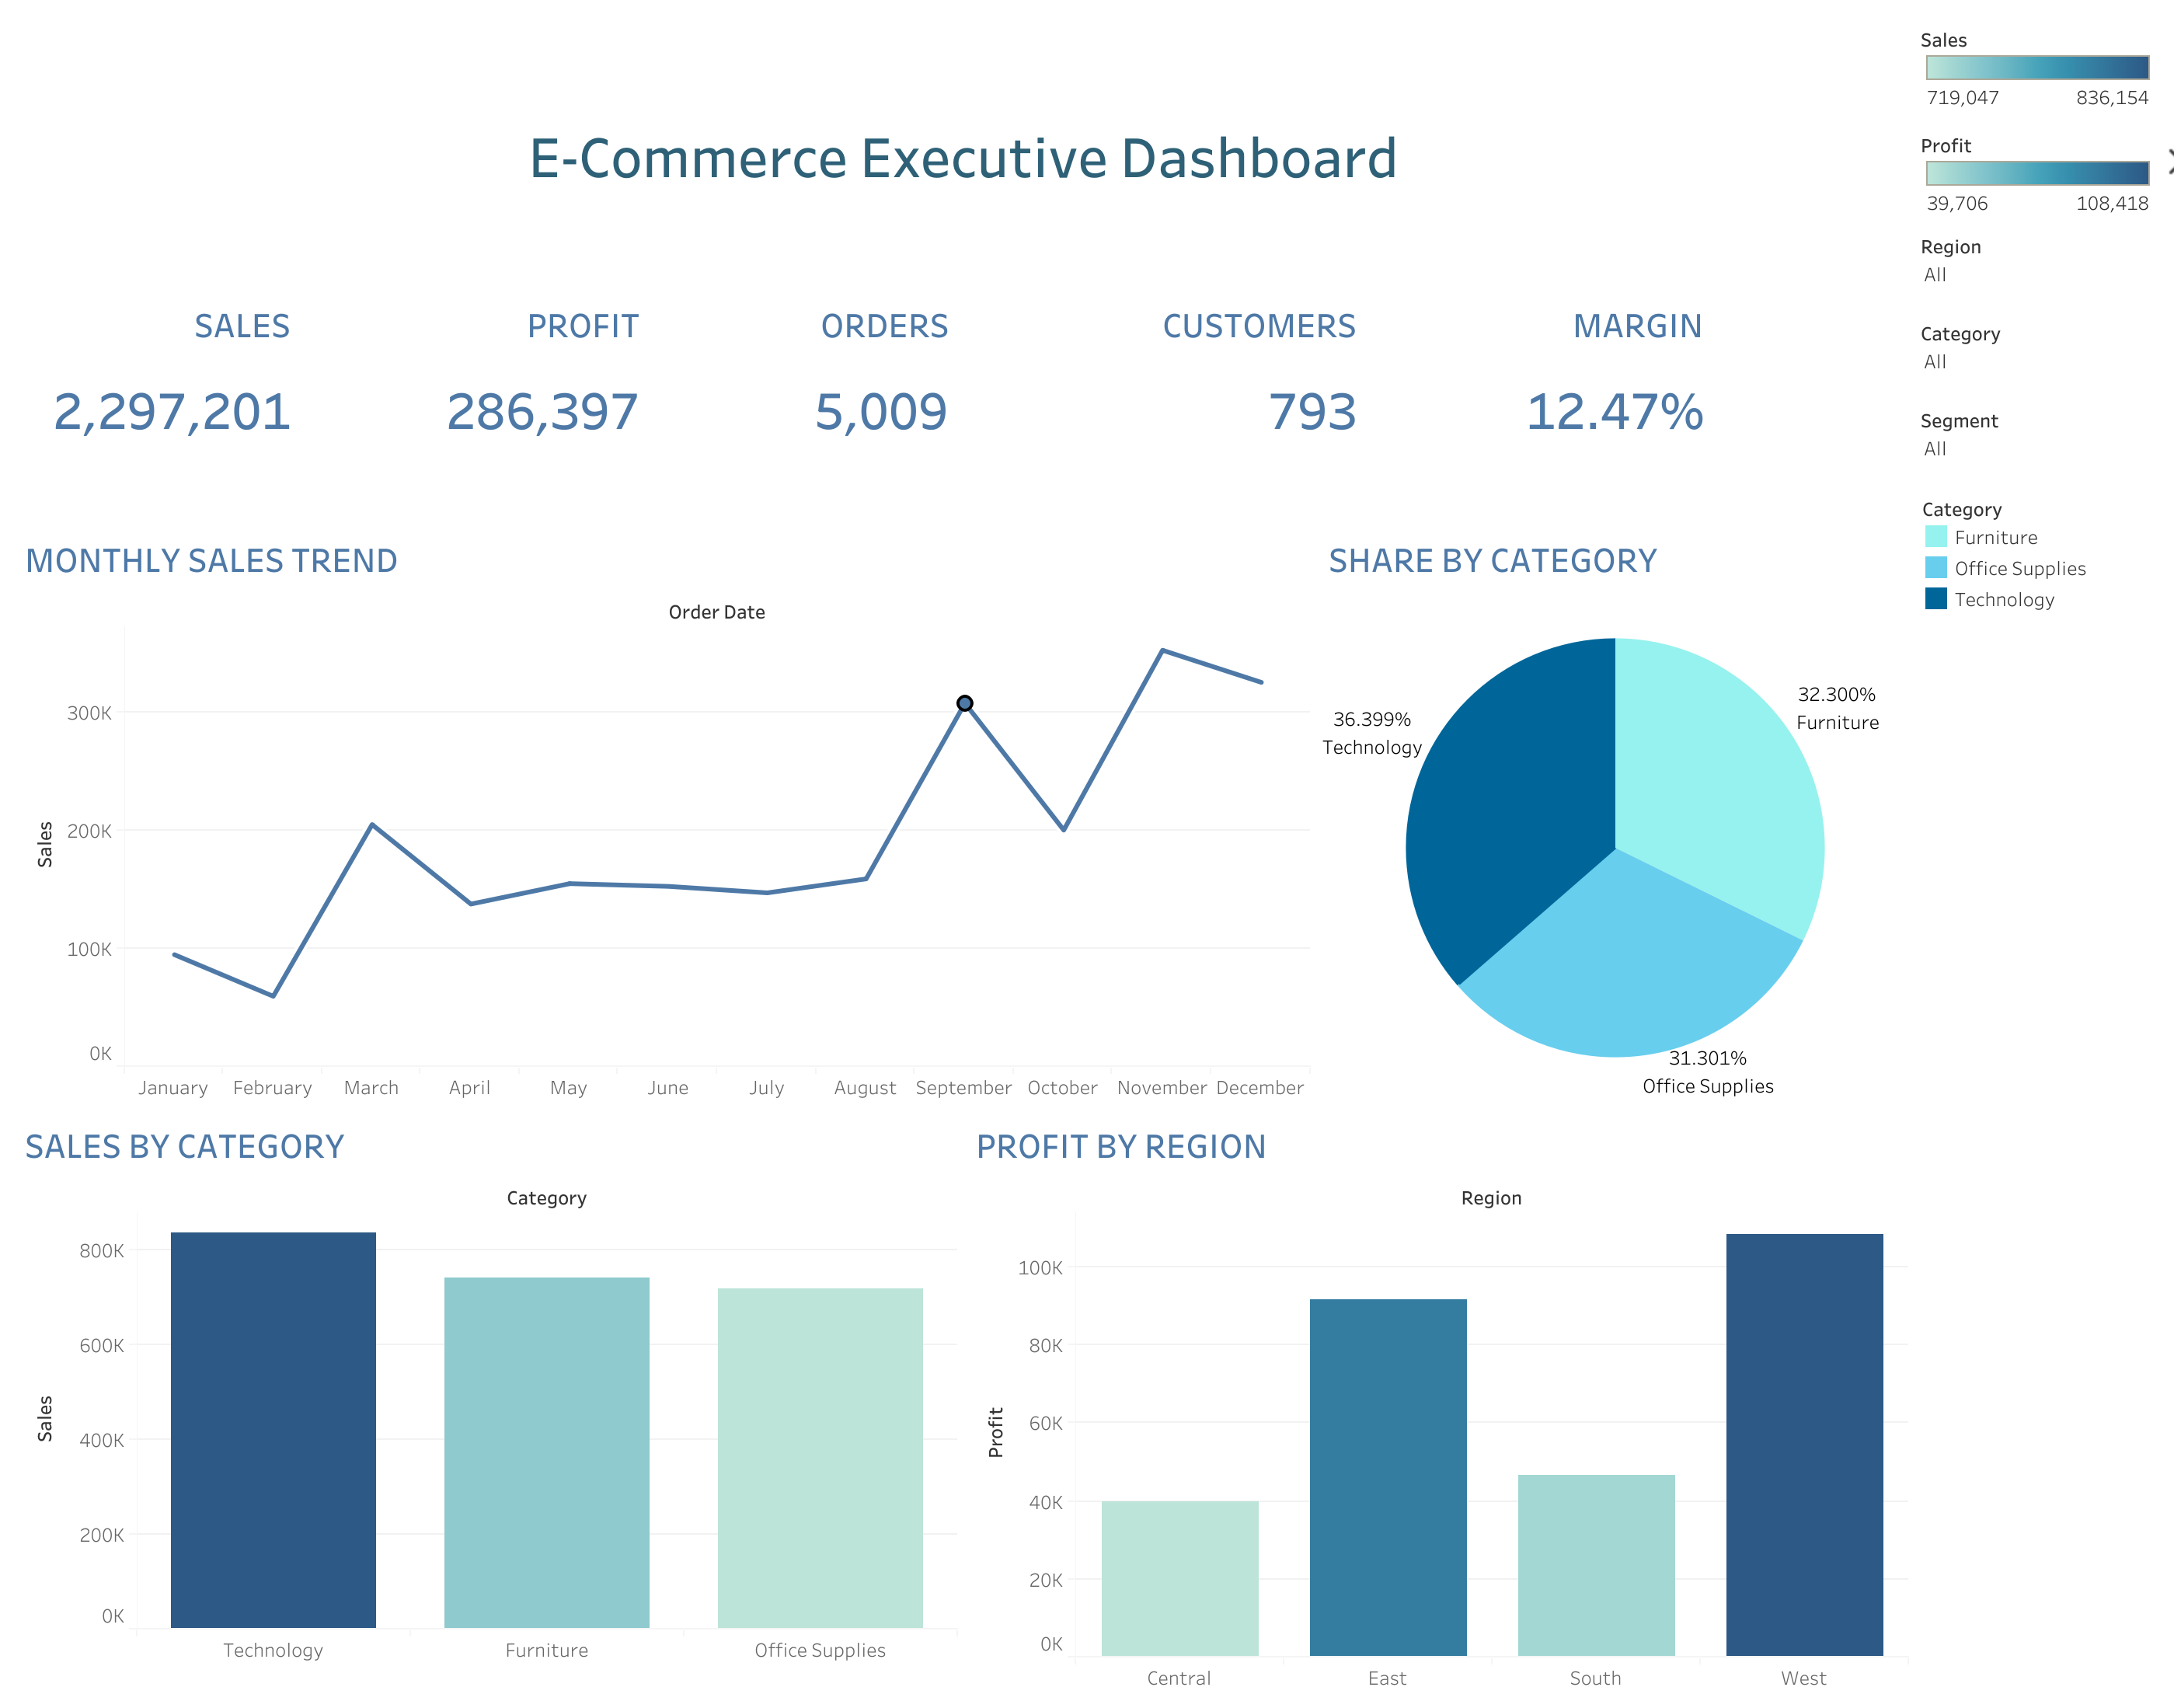

Layout of this report page (visuals, bound fields, positions):
{"tool":"tableau","page":{"name":"EXECUTIVE DASHBOARD","canvas":[1400,1100],"ordinal":0},"visuals":[{"type":"text","box":[8,8,1224,144]},{"type":"legend","title":"CATEGORY SALES","param":"[federated.0c3jzsr0my6qlz13rsrev0upd4m0].[sum:Sales:qk]","box":[1232,8,160,65]},{"type":"legend","title":"REGIONAL PROFIT","param":"[federated.0c3jzsr0my6qlz13rsrev0upd4m0].[sum:Profit:qk]","box":[1232,73,160,65]},{"type":"filter","title":"MONTHLY SALES","param":"[federated.0c3jzsr0my6qlz13rsrev0upd4m0].[none:Region:nk]","box":[1232,138,160,52]},{"type":"worksheet","title":"KPI SALES","mark":"Automatic","box":[8,152,264,183]},{"type":"worksheet","title":"KPI PROFIT","mark":"Automatic","box":[272,152,239,183]},{"type":"worksheet","title":"KPI ORDERS","mark":"Automatic","box":[511,152,223,183]},{"type":"worksheet","title":"KPI CUSTOMERS","mark":"Automatic","box":[734,152,223,183]},{"type":"worksheet","title":"KPI MARGIN","mark":"Automatic","box":[957,152,243,183]},{"type":"filter","title":"MONTHLY SALES","param":"[federated.0c3jzsr0my6qlz13rsrev0upd4m0].[none:Category:nk]","box":[1232,190,160,52]},{"type":"filter","title":"MONTHLY SALES","param":"[federated.0c3jzsr0my6qlz13rsrev0upd4m0].[none:Segment:nk]","box":[1232,242,160,52]},{"type":"legend","title":"CATEGORY SHARE","param":"[federated.0c3jzsr0my6qlz13rsrev0upd4m0].[none:Category:nk]","box":[1232,294,160,86]},{"type":"worksheet","title":"MONTHLY SALES","mark":"Line","rows":["Sales"],"cols":["Order Date"],"box":[8,335,839,377]},{"type":"worksheet","title":"CATEGORY SHARE","mark":"Pie","box":[847,335,385,377]},{"type":"worksheet","title":"CATEGORY SALES","mark":"Bar","rows":["Sales"],"cols":["Category"],"box":[8,712,612,380]},{"type":"worksheet","title":"REGIONAL PROFIT","mark":"Bar","rows":["Profit"],"cols":["Region"],"box":[620,712,612,380]}]}

Visuals, with their boxes in screenshot pixels (x1, y1, x2, y2), scaled from the page's 1400x1100 canvas onto the 2174x1708 screenshot:
text: {"x1": 12, "y1": 12, "x2": 1913, "y2": 236}
"CATEGORY SALES" legend: {"x1": 1913, "y1": 12, "x2": 2162, "y2": 113}
"REGIONAL PROFIT" legend: {"x1": 1913, "y1": 113, "x2": 2162, "y2": 214}
"MONTHLY SALES" filter: {"x1": 1913, "y1": 214, "x2": 2162, "y2": 295}
"KPI SALES" worksheet: {"x1": 12, "y1": 236, "x2": 423, "y2": 520}
"KPI PROFIT" worksheet: {"x1": 423, "y1": 236, "x2": 793, "y2": 520}
"KPI ORDERS" worksheet: {"x1": 793, "y1": 236, "x2": 1140, "y2": 520}
"KPI CUSTOMERS" worksheet: {"x1": 1140, "y1": 236, "x2": 1486, "y2": 520}
"KPI MARGIN" worksheet: {"x1": 1486, "y1": 236, "x2": 1863, "y2": 520}
"MONTHLY SALES" filter: {"x1": 1913, "y1": 295, "x2": 2162, "y2": 376}
"MONTHLY SALES" filter: {"x1": 1913, "y1": 376, "x2": 2162, "y2": 456}
"CATEGORY SHARE" legend: {"x1": 1913, "y1": 456, "x2": 2162, "y2": 590}
"MONTHLY SALES" worksheet (Line marks): {"x1": 12, "y1": 520, "x2": 1315, "y2": 1106}
"CATEGORY SHARE" worksheet (Pie marks): {"x1": 1315, "y1": 520, "x2": 1913, "y2": 1106}
"CATEGORY SALES" worksheet (Bar marks): {"x1": 12, "y1": 1106, "x2": 963, "y2": 1696}
"REGIONAL PROFIT" worksheet (Bar marks): {"x1": 963, "y1": 1106, "x2": 1913, "y2": 1696}
